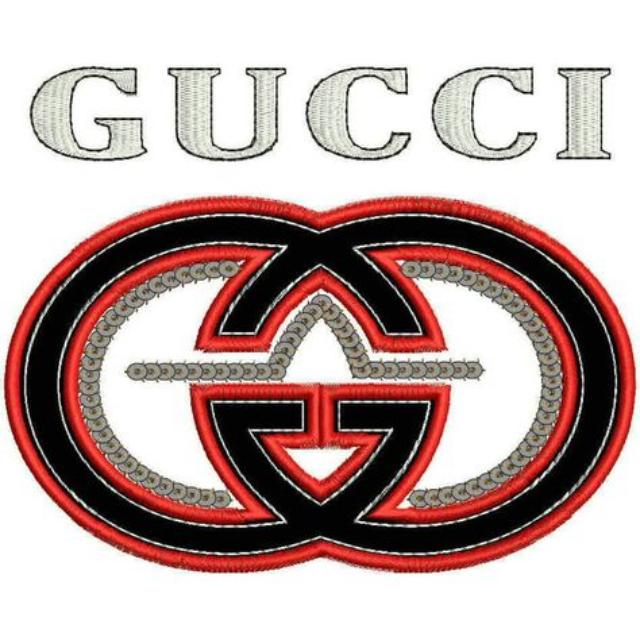Gucci: (1, 194, 640, 578), (0, 54, 640, 178)
